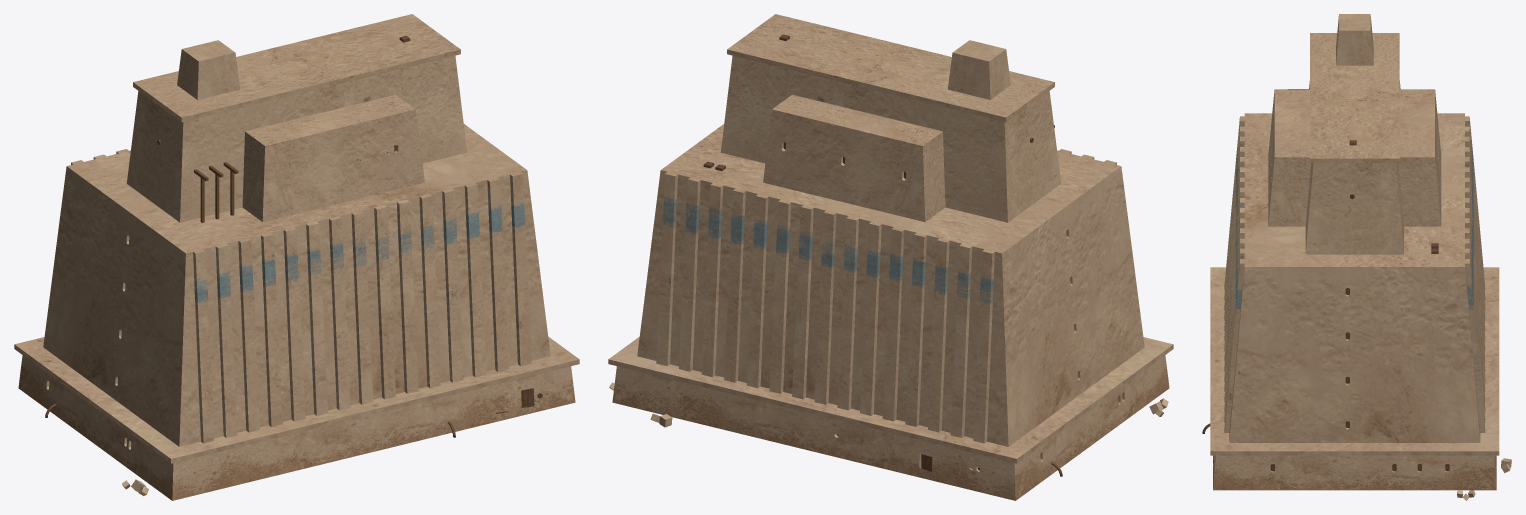
Rendered from Edificio 2.fbx.
3 renders of one model, left to right at view 1: azimuth 30°, elevation 25°; view 2: azimuth 150°, elevation 25°; view 3: azimuth 270°, elevation 25°, orthographic. The views are drawn at different scales.
Visible parts, largest first — view 1: building18.001; view 2: building18.001; view 3: building18.001.
Part boxes in pixels (x1,y1,x2,y2): building18.001: [14, 14, 579, 500]; building18.001: [608, 14, 1173, 500]; building18.001: [1202, 14, 1511, 500].
Size of the model in its own units: 3925 by 3143 by 2567.
